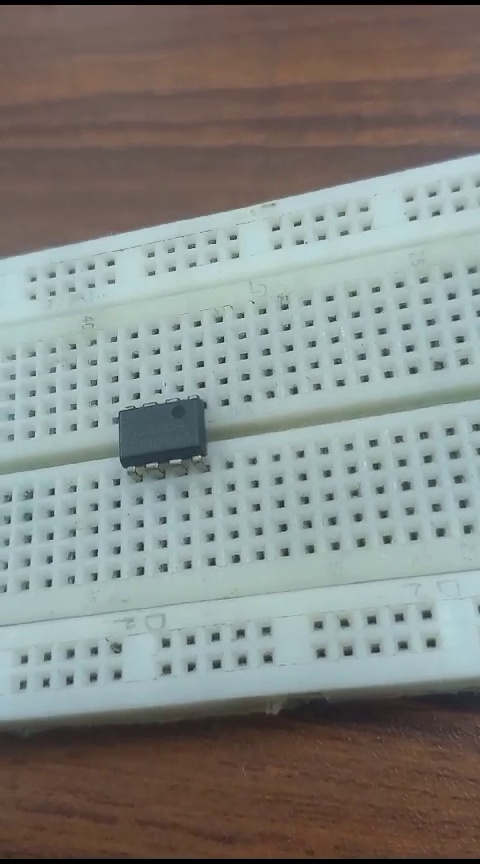IC: (102, 396, 228, 488)
